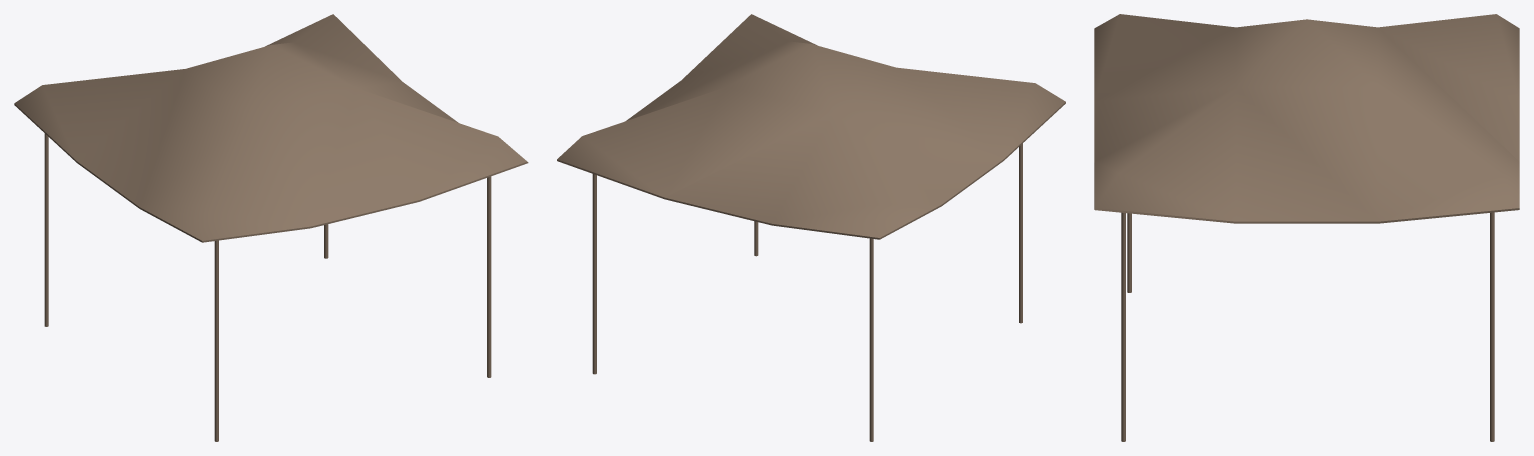
Rendered from model_gazebo.fbx.
3 renders of one model, left to right at view 1: azimuth 30°, elevation 25°; view 2: azimuth 150°, elevation 25°; view 3: azimuth 270°, elevation 25°, orthographic. The views are drawn at different scales.
Visible parts, largest first — view 1: pPipe5; view 2: pPipe5; view 3: pPipe5.
Part boxes in pixels (x1,y1,x2,y2): pPipe5: (14, 14, 528, 441); pPipe5: (557, 14, 1065, 441); pPipe5: (1094, 14, 1519, 441).
Size of the model in its own units: 12.37 by 11.1 by 12.36.
